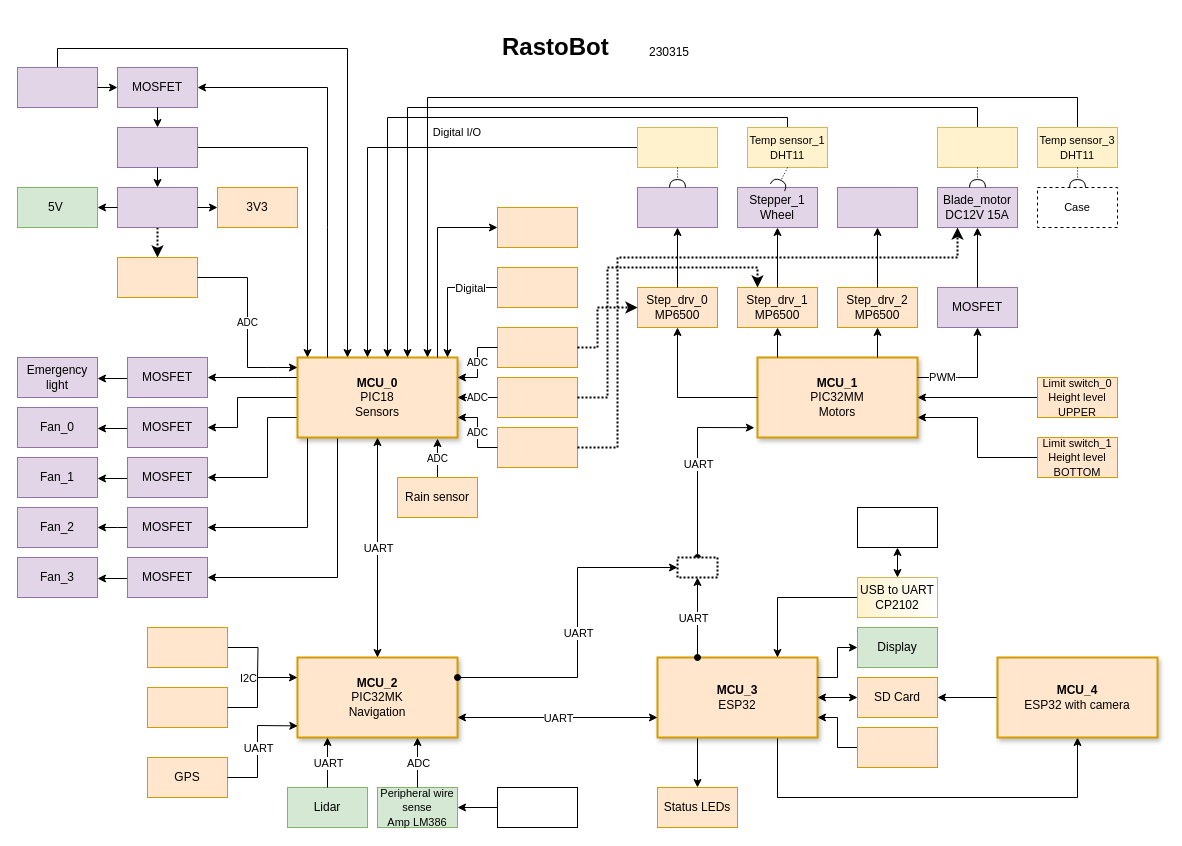
Some shapes in this 1182 by 846 pixel diagram are drawn without their labels. The centre of each missing label's shape, as x and y in pixels:
12V input: the point at 157,207
Battery: the point at 157,147
Buttons: the point at 897,747
Buzzer: the point at 537,227
Compass: the point at 187,647
Current sensor_0 TLI497: the point at 537,347
Current sensor_1 TLI497: the point at 537,397
Current sensor_2 TLI497: the point at 537,447
Current sensor_3 TLI497: the point at 157,277
External input: the point at 57,87
Inductor: the point at 537,807
MicroUSB: the point at 897,527
MPU6500: the point at 187,707
Stepper_0 Wheel: the point at 677,207
Stepper_2 Height_level: the point at 877,207
Switch: the point at 697,567
Temp sensor_0 DHT11: the point at 677,147
Temp sensor_2 DHT11: the point at 977,147
Tilt sensor_0: the point at 537,287
